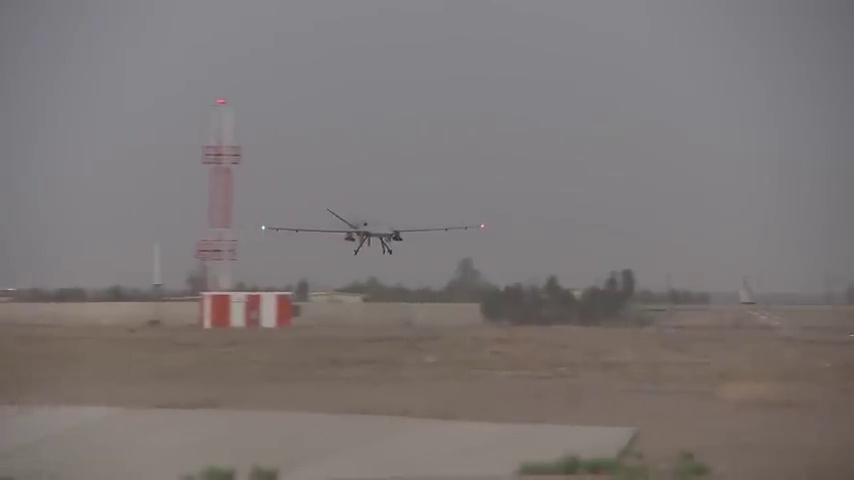military drone: (262, 208, 486, 256)
